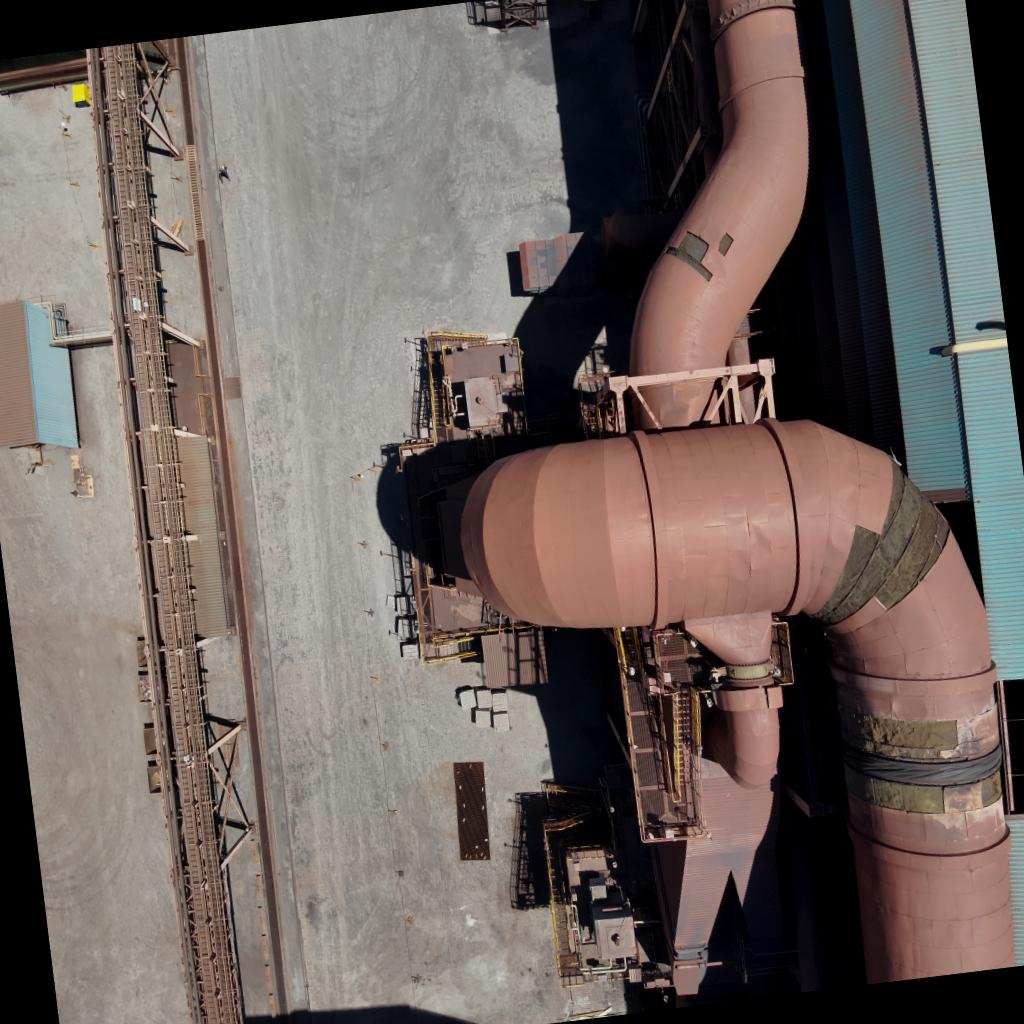Failures: (788, 446, 955, 644), (828, 685, 1021, 837), (661, 218, 717, 289), (714, 218, 736, 260)
